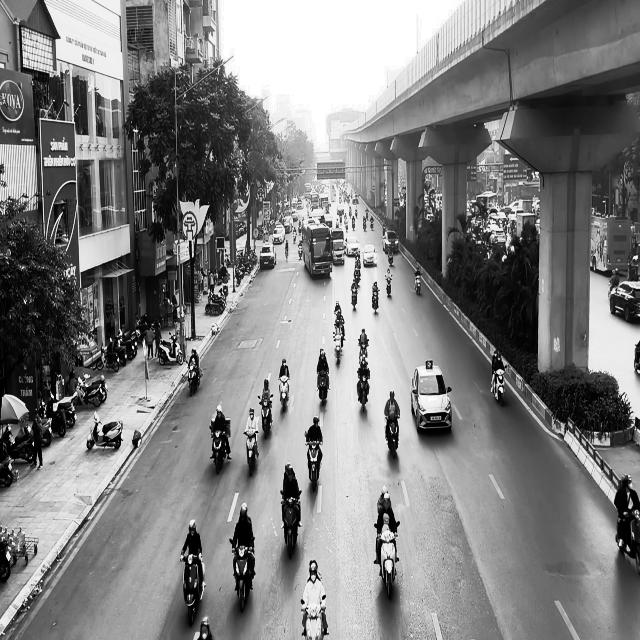bus: (590, 214, 631, 275)
car: (410, 359, 452, 433), (259, 242, 276, 269), (362, 244, 377, 266)
motorbike: (229, 538, 255, 612), (180, 552, 206, 626), (615, 508, 640, 574), (376, 527, 398, 600), (280, 489, 302, 559), (86, 412, 123, 451), (209, 420, 230, 474), (301, 596, 326, 640), (305, 437, 322, 492), (243, 429, 259, 476), (257, 394, 273, 439), (490, 364, 507, 406), (384, 412, 399, 458), (356, 367, 370, 412), (185, 360, 202, 396), (316, 370, 329, 404), (278, 376, 290, 411), (333, 331, 343, 364), (358, 337, 369, 365), (414, 270, 422, 295), (371, 290, 379, 314), (351, 282, 358, 309), (385, 272, 392, 297)
